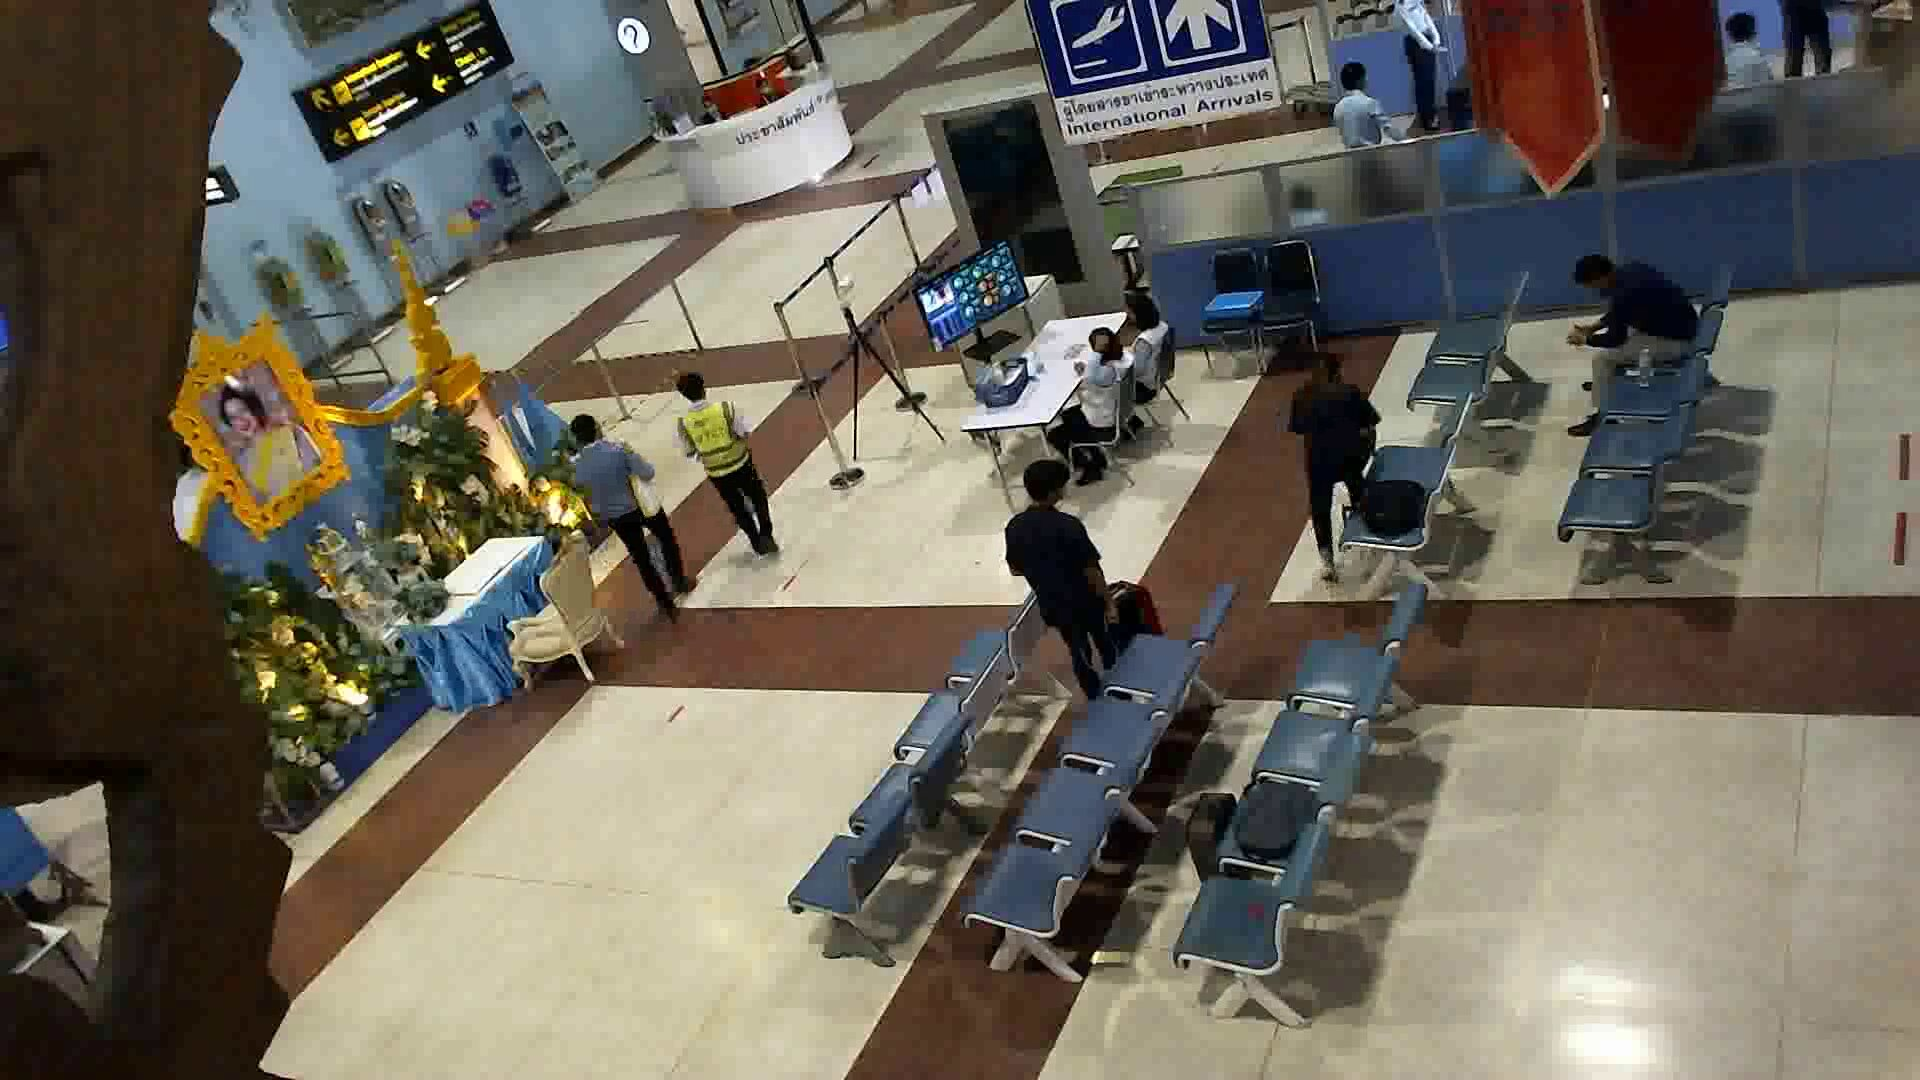backpack: (1235, 774, 1324, 857), (1364, 476, 1426, 545)
luggage: (1099, 563, 1166, 668), (1185, 788, 1245, 903)
people: (1006, 445, 1122, 715), (570, 407, 703, 626), (1570, 241, 1703, 436), (668, 370, 783, 572), (1281, 347, 1374, 591), (1054, 326, 1137, 495), (1128, 291, 1170, 418)
